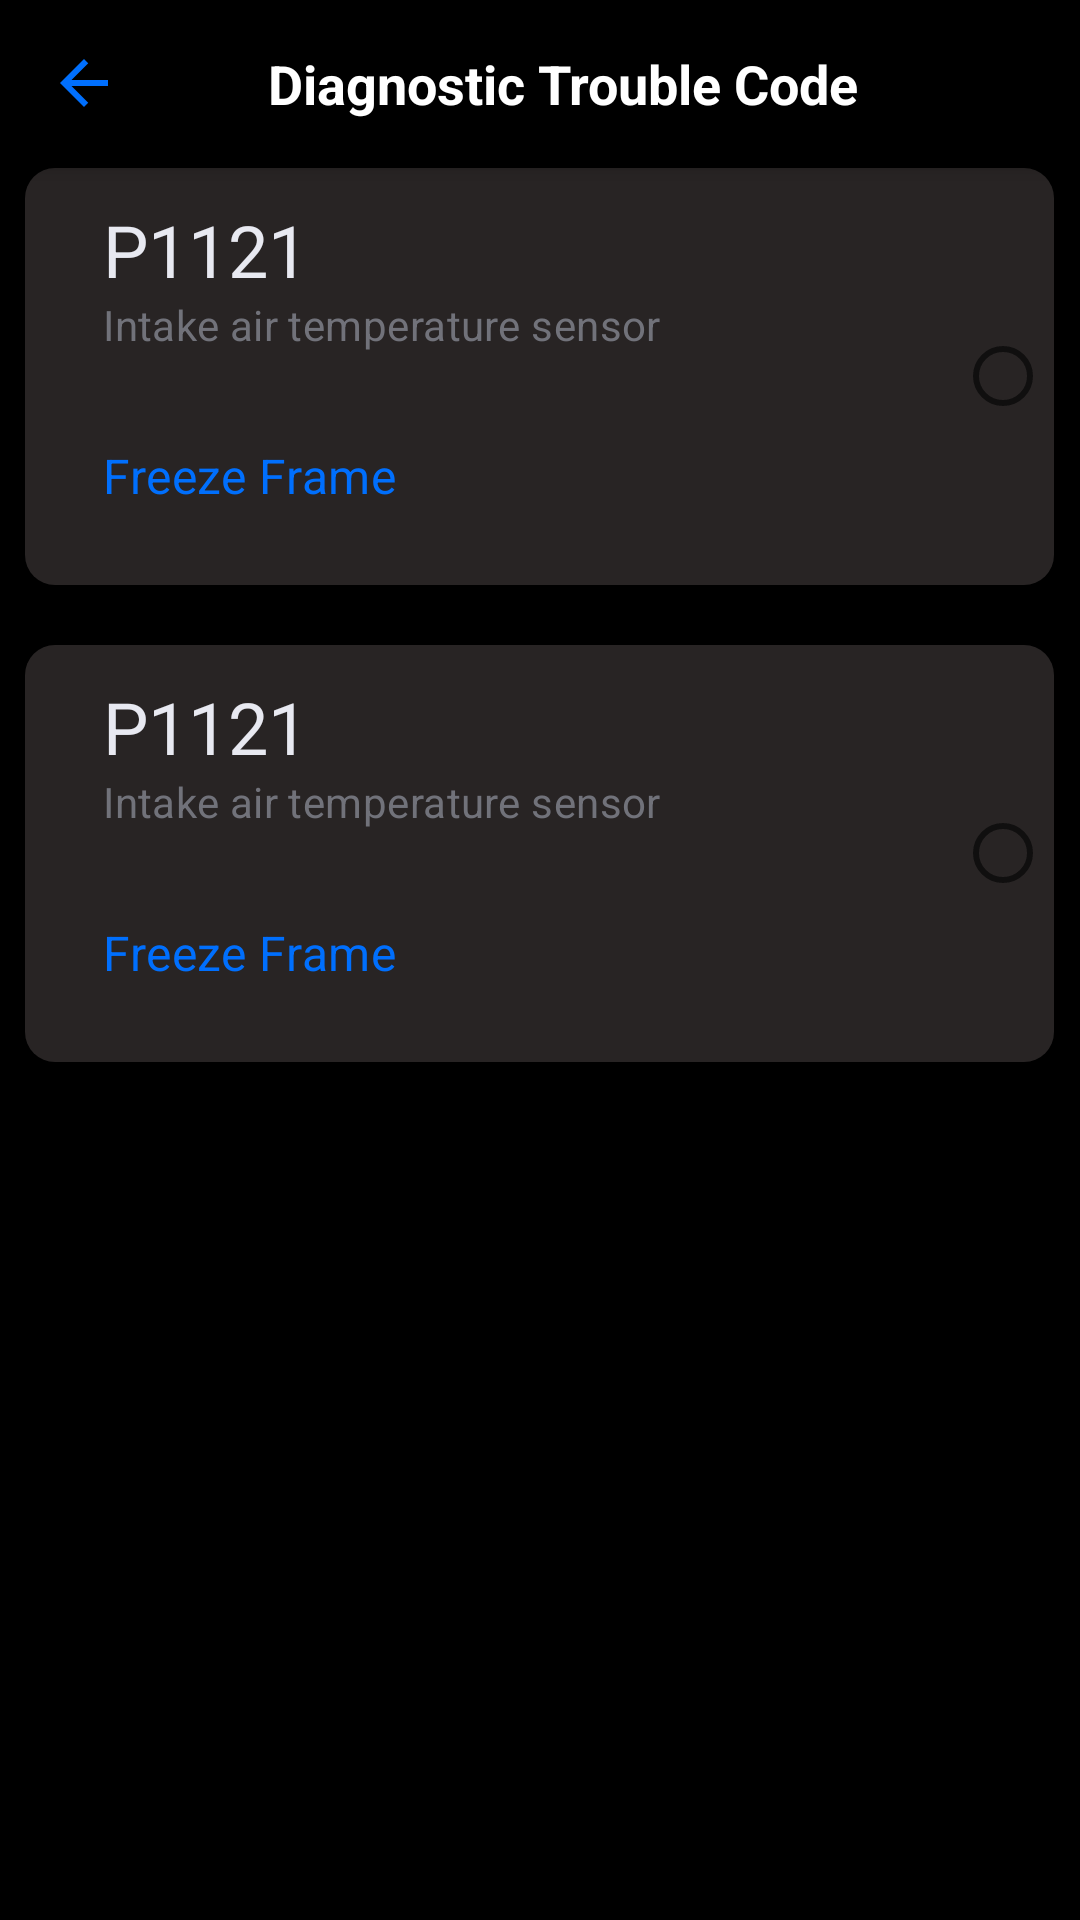

Where icons sit on this 1080w x 1920h app screen, as (x1, y1, x2, y2):
arrow back: (60, 59, 108, 107)
